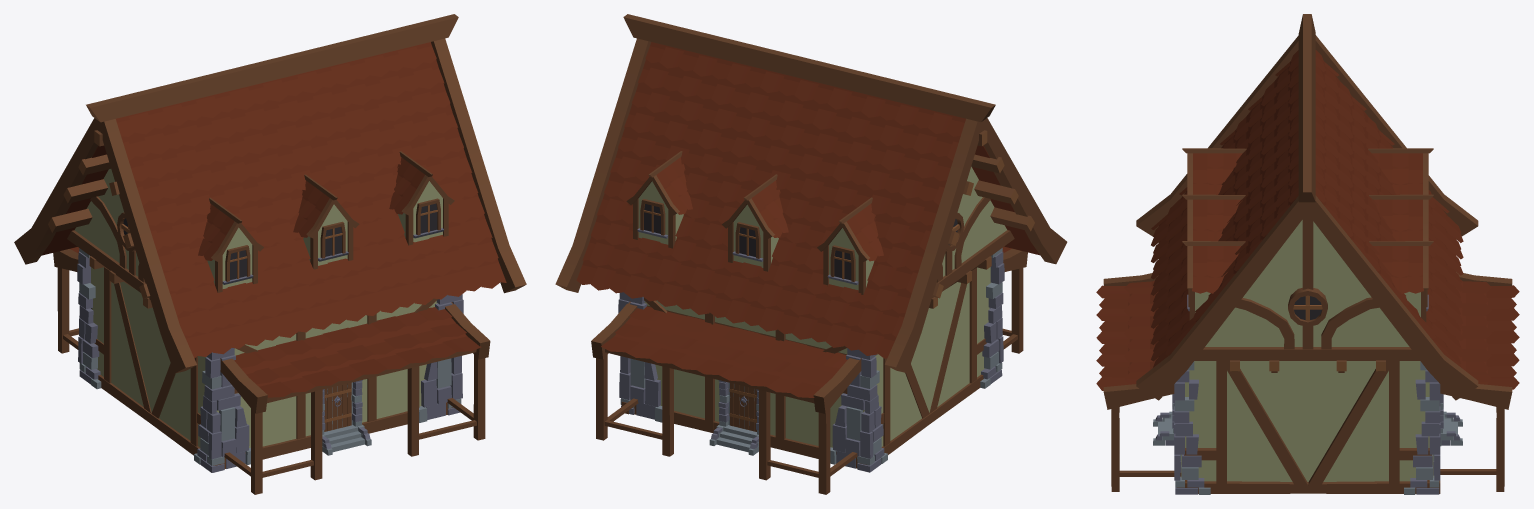
File: tavern.glb
3 views of the same model, side by side, from view 1: azimuth 30°, elevation 25°; view 2: azimuth 150°, elevation 25°; view 3: azimuth 270°, elevation 25° (orthographic).
Visible parts, largest first — view 1: Inn; view 2: Inn; view 3: Inn.
Boxes of the visible parts, <box> form: Inn: <box>14,14,526,494</box>; Inn: <box>555,14,1067,494</box>; Inn: <box>1096,14,1519,494</box>.
Size of the model in its own units: 10.39 by 9 by 10.37.
1 material, 1 textured.
